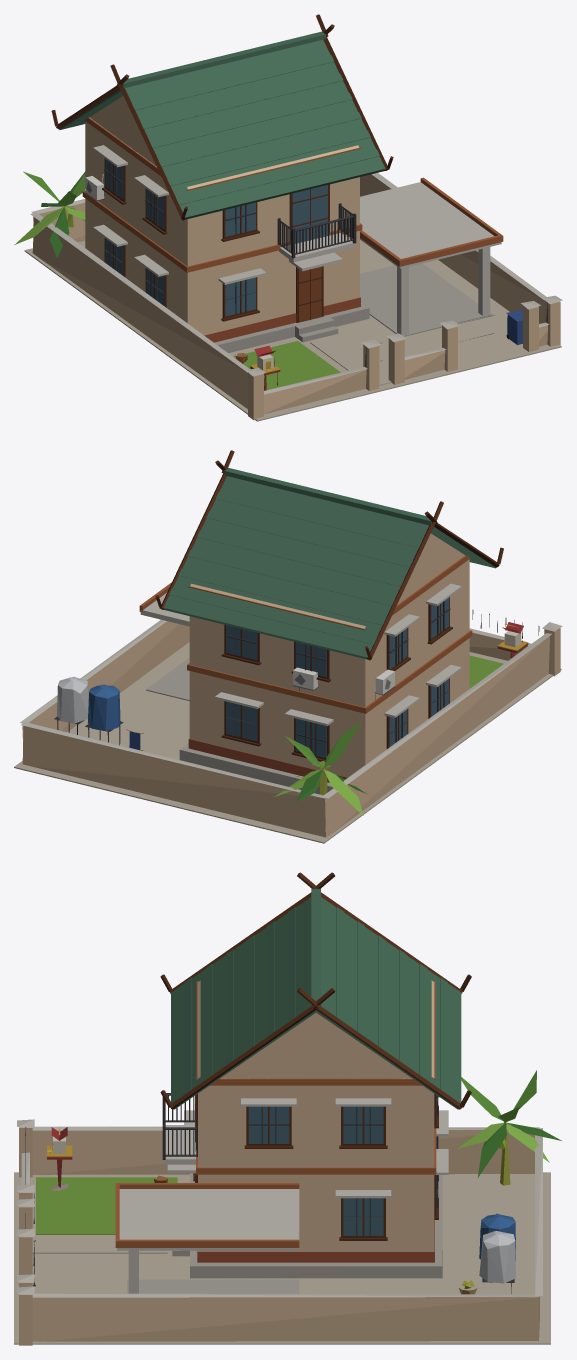
The model's file is house12_2.glb.
3 renders of one model, top to bottom at view 1: azimuth 30°, elevation 25°; view 2: azimuth 150°, elevation 25°; view 3: azimuth 270°, elevation 25°, orthographic. The views are drawn at different scales.
Visible parts, largest first — view 1: body, windows; view 2: body, windows; view 3: body, windows.
Boxes of the visible parts, x1,y1,x2,y2 form: body: (14,14,562,421); windows: (105,159,327,316); body: (14,450,562,843); windows: (226,597,449,758); body: (14,872,561,1345); windows: (195,1095,436,1235).
Bounding box in the file's own units: 13.08 × 9.99 × 16.26.
